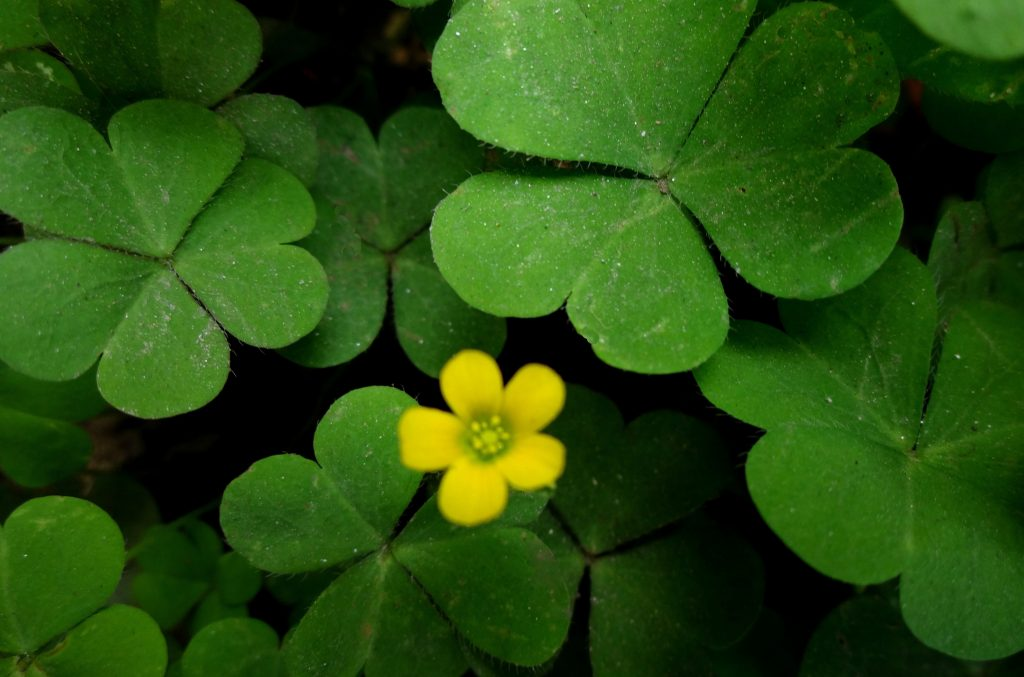oxalis: (386, 9, 967, 453), (64, 420, 773, 677), (725, 250, 1024, 665), (28, 85, 332, 402)
